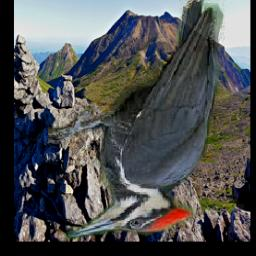Woodpecker: (47, 0, 231, 241)
